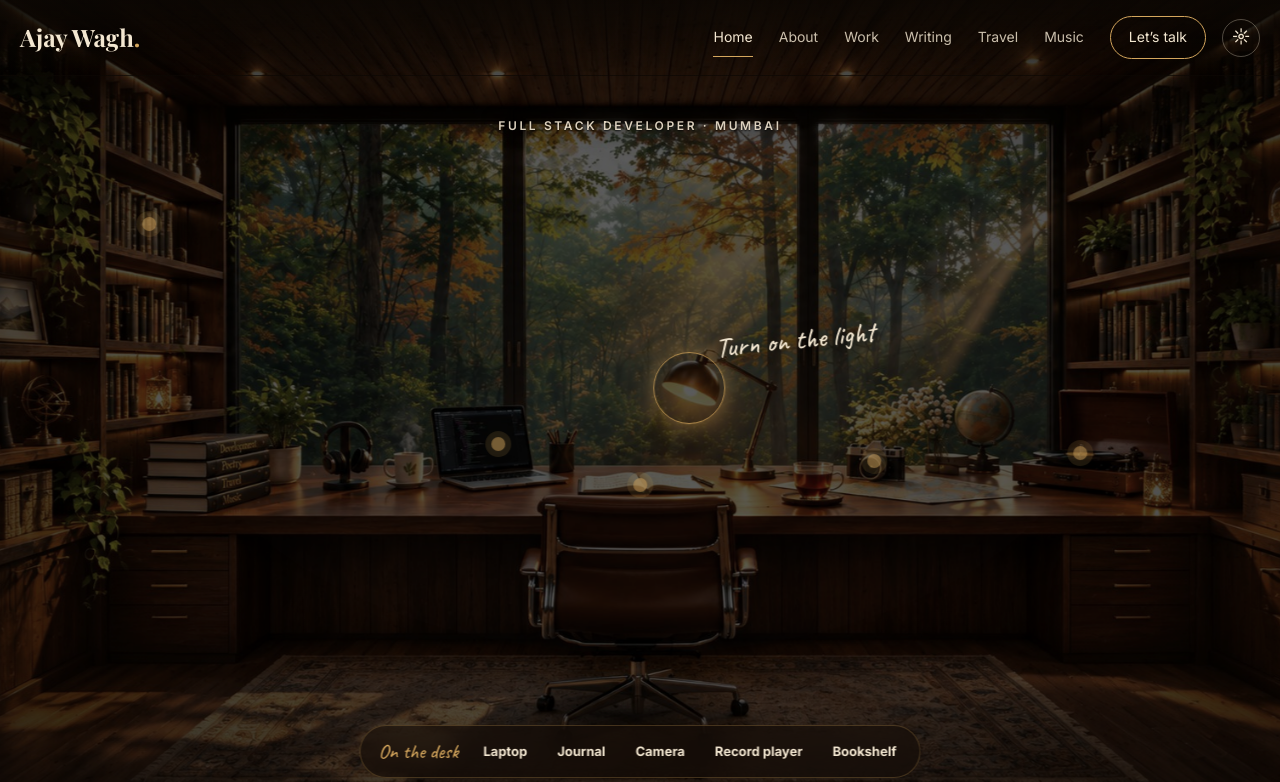
Test: mobile menu closes after navigating and the theme choice persists
Earlier steps of the test are not shown.
What coordinates should you click on to do the following:
click the button named "Switch to light theme"
I would click on:
 (1241, 38)
Its box is x1=1222 y1=18 x2=1260 y2=56.
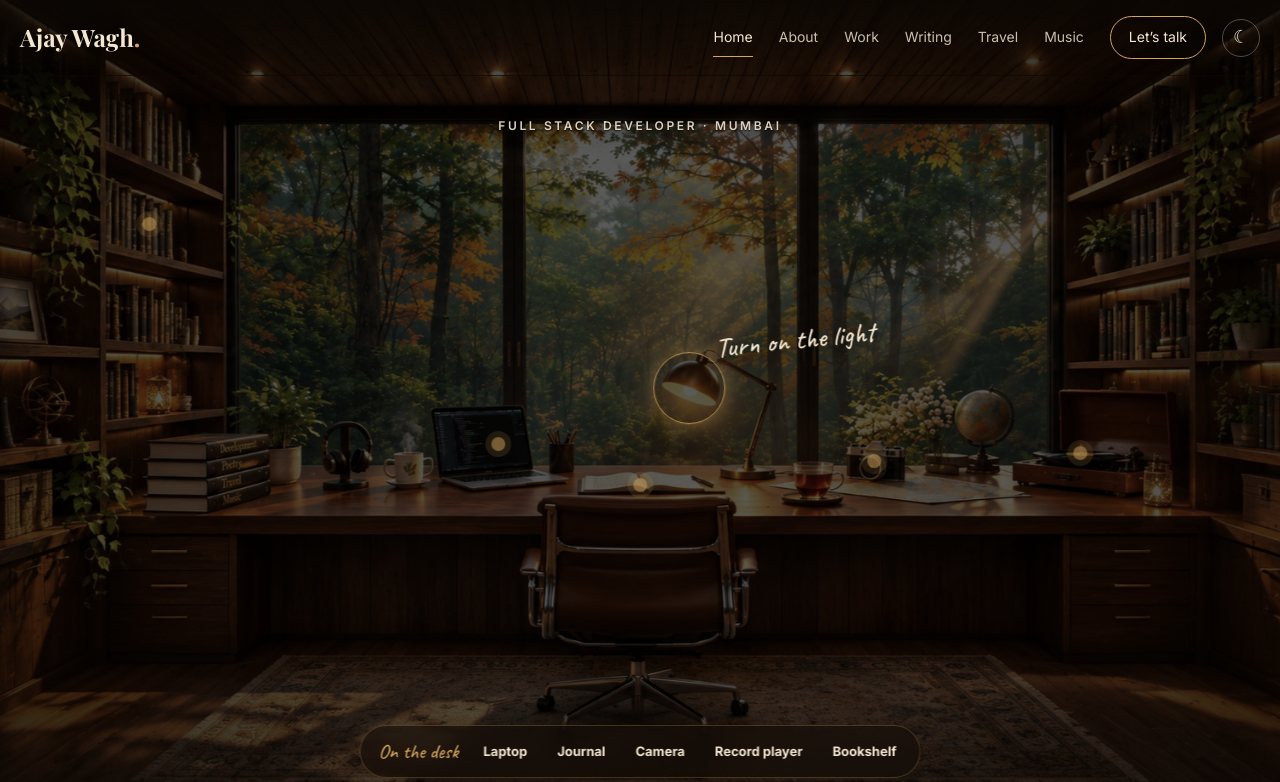
What coordinates should you click on to do the following:
click the link "Travel"
I would click on:
 (998, 37)
Its box is x1=978 y1=28 x2=1018 y2=45.
(page scrolled)
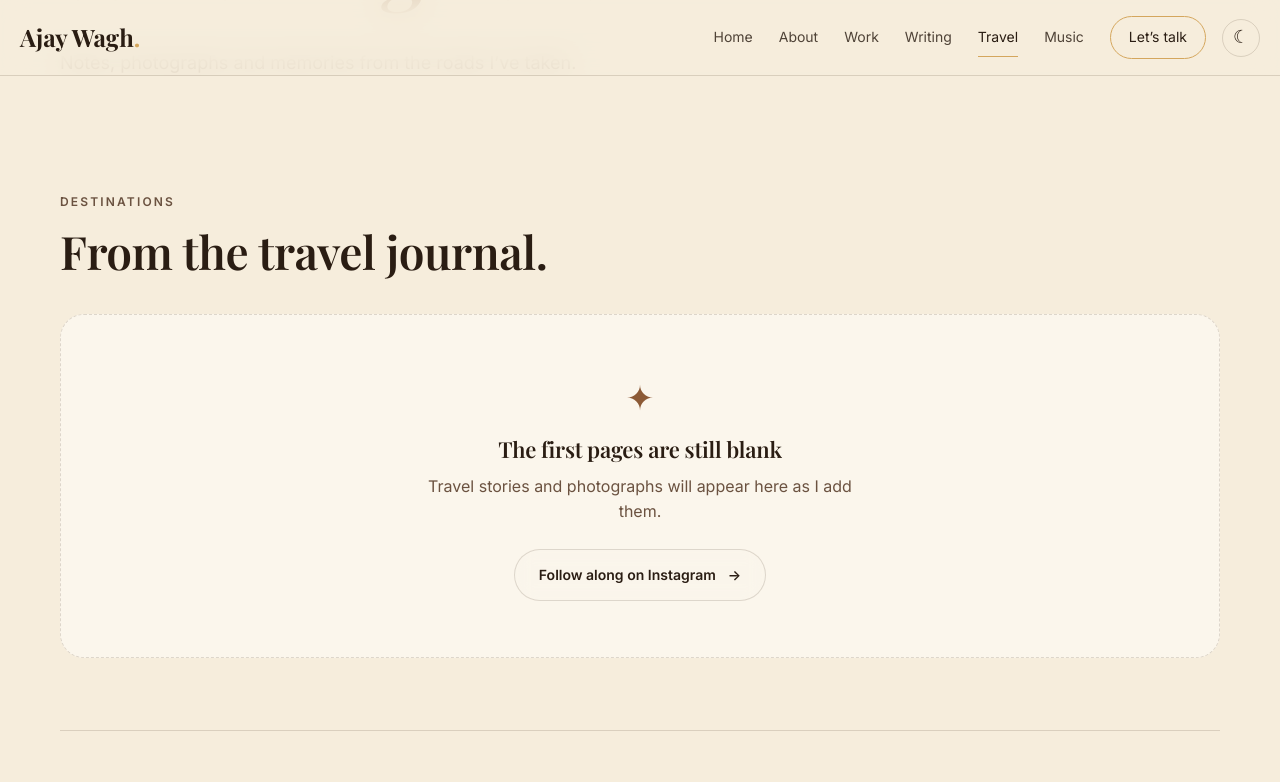
expect the heading "The first pages are still blank" is shown: met, box x1=498 y1=434 x2=782 y2=464
